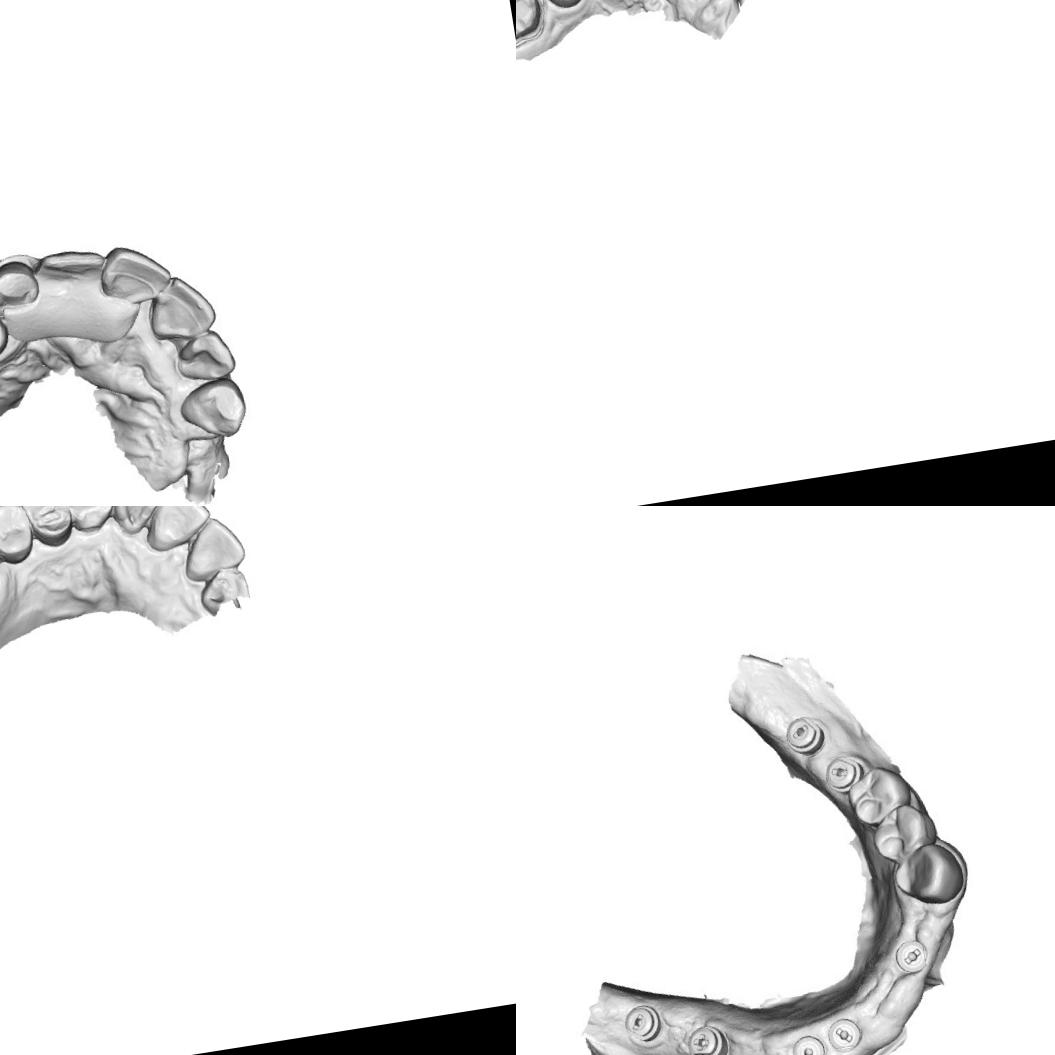canine: (890, 840, 964, 908), (174, 378, 249, 444), (0, 253, 41, 314), (64, 506, 124, 536)
crown: (516, 0, 546, 51)
implant: (789, 1031, 830, 1055)
implant_minus: (892, 935, 935, 980), (784, 716, 826, 758), (822, 755, 866, 793), (621, 1002, 661, 1043), (824, 1016, 865, 1055)
implant_plus: (682, 1021, 736, 1055)
incisor: (176, 510, 250, 583), (100, 238, 171, 308), (149, 276, 217, 344), (141, 506, 217, 552), (178, 330, 234, 388), (40, 244, 106, 287), (106, 506, 170, 541)
premolar: (850, 770, 910, 826), (14, 506, 79, 552), (871, 806, 927, 858), (0, 506, 39, 570)
